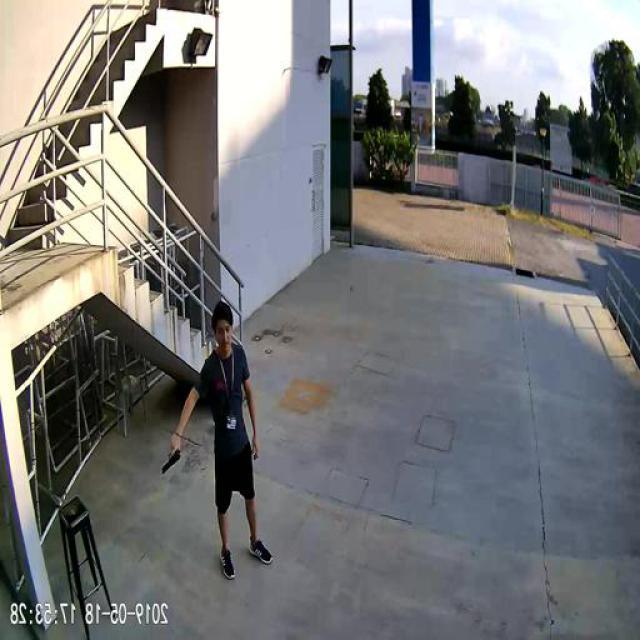Gun: (164, 444, 184, 474)
